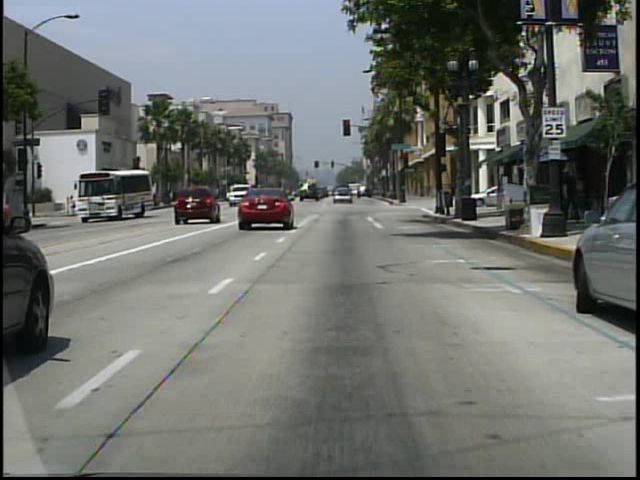person: (67, 195, 78, 216)
